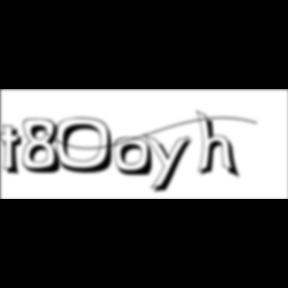8: (22, 117, 68, 176)
O: (56, 117, 120, 176)
h: (196, 108, 242, 182)
o: (114, 137, 156, 179)
t: (1, 124, 30, 179)
y: (144, 132, 198, 196)
